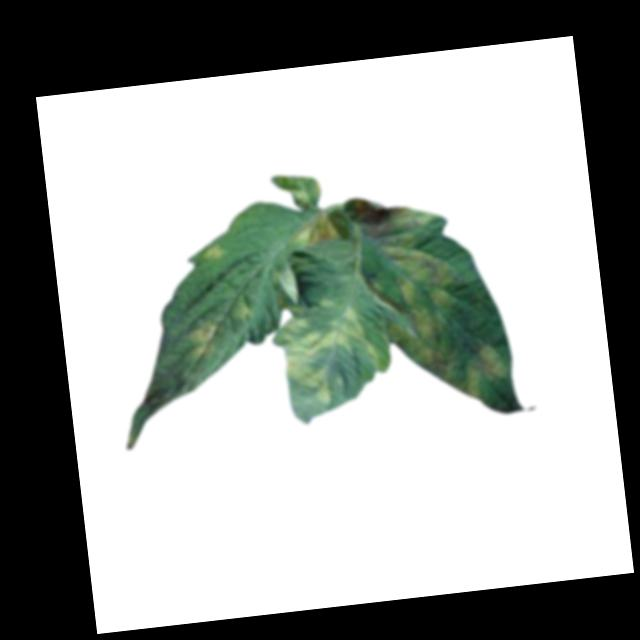Leaf_Mold: (350, 183, 506, 408), (277, 295, 371, 404), (184, 322, 229, 362), (292, 211, 339, 249), (203, 245, 229, 265)
